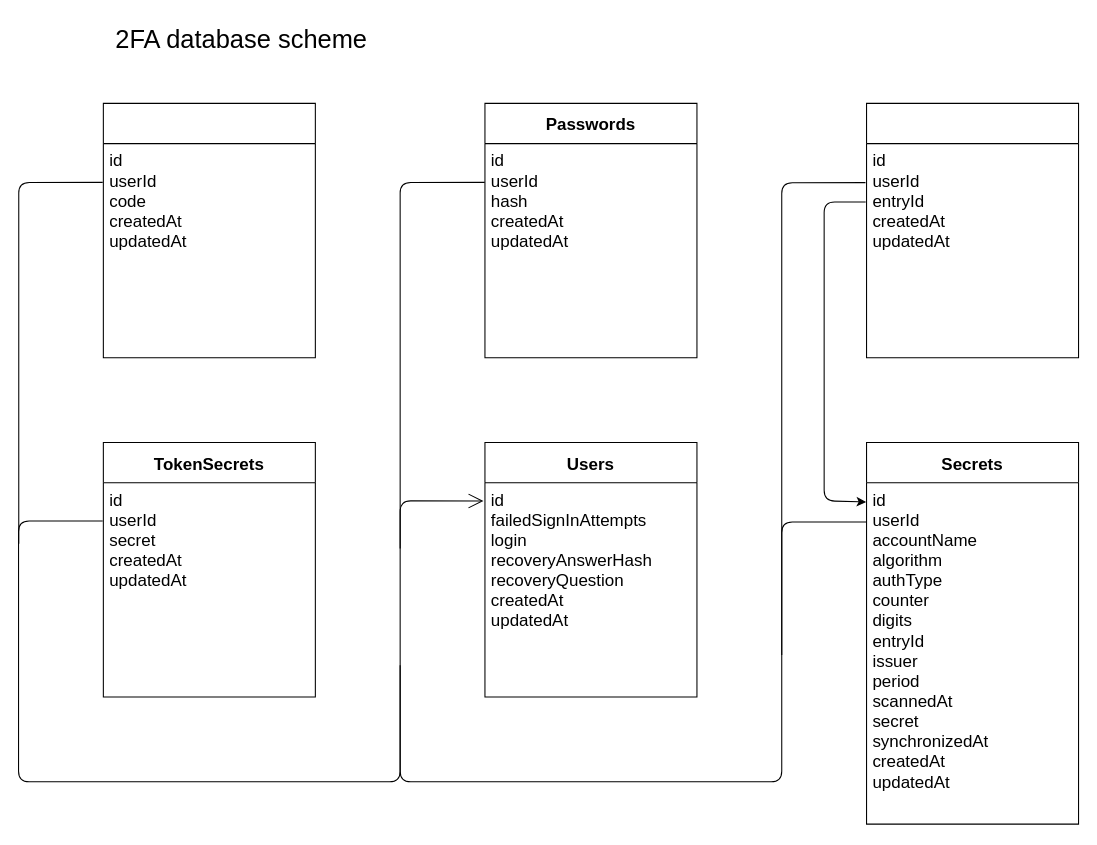
This 1097x845 diagram has some shape labels left out. The box of each missing label's shape, as (x1, y1, x2, y2) in pixels:
AuthCodes: (102, 102, 315, 358)
DeletedSecretIDs: (865, 102, 1079, 358)
